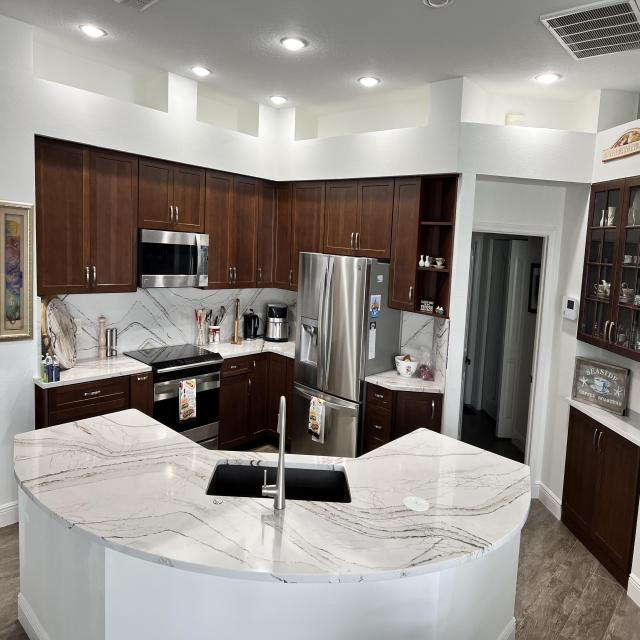Appliance_Fridge: (290, 252, 401, 458)
Appliance_Microwave: (137, 229, 212, 290)
Appliance_Oven: (123, 345, 223, 449)
Appliance_Sink: (206, 396, 351, 510)
Cabinet_Glass: (577, 184, 640, 357)
Cabinet_Shaker: (35, 136, 420, 312), (562, 404, 640, 590), (217, 353, 294, 453), (34, 375, 154, 429), (359, 382, 443, 455)
Countertop_Marble: (14, 409, 532, 585), (37, 359, 151, 389), (364, 371, 443, 393), (205, 340, 295, 357)
